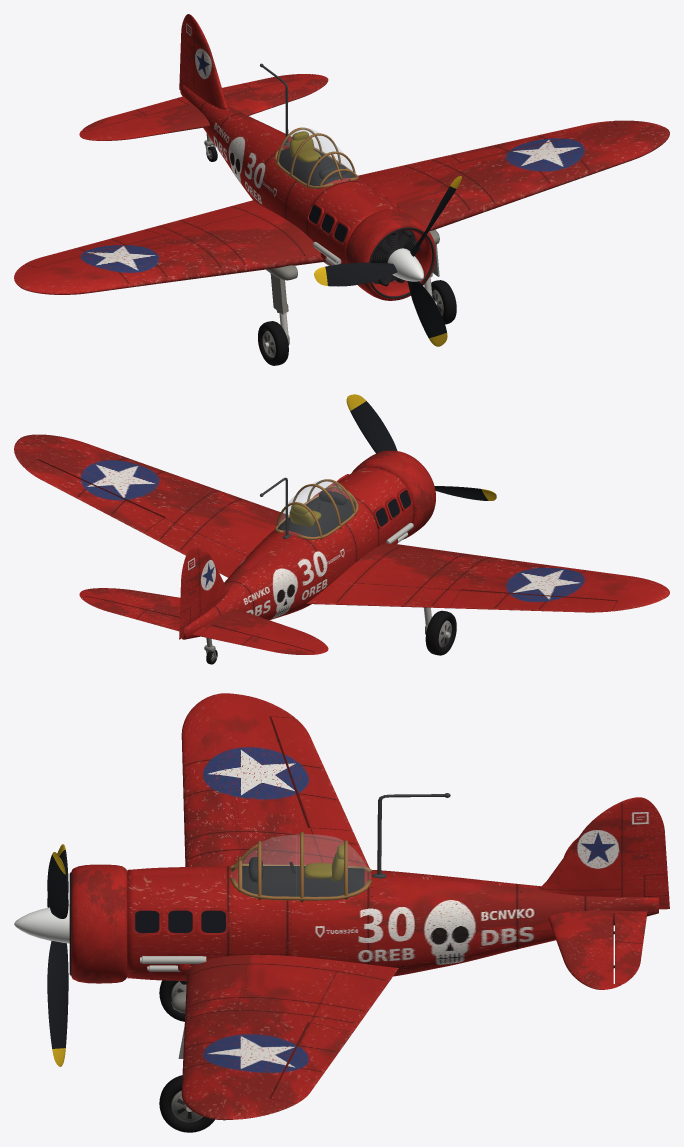
Rendered from ship_aero.glb.
3 renders of one model, top to bottom at view 1: azimuth 30°, elevation 25°; view 2: azimuth 150°, elevation 25°; view 3: azimuth 270°, elevation 25°, orthographic. The views are drawn at different scales.
Parts seen in each view (by area): view 1: Wings, Fuselage, Tailplane, Propeller, Cowling, TailFin, Canopy_Glass, Cockpit, Aileron_L, Aileron_R, Canopy_Frame, Wheel_Main_R (+6 smaller); view 2: Wings, Fuselage, Tailplane, Aileron_L, TailFin, Canopy_Glass, Aileron_R, Cowling, Propeller, Cockpit, Elevator_R, Elevator_L (+3 smaller); view 3: Wings, Fuselage, TailFin, Cowling, Canopy_Glass, Propeller, Tailplane, Aileron_R, Cockpit, Aileron_L, Nose_Windows, Canopy_Frame (+5 smaller).
Part boxes in pixels (x1,y1,x2,y2): Wings: [14, 120, 669, 294]; Fuselage: [180, 84, 399, 265]; Tailplane: [79, 74, 328, 140]; Propeller: [314, 176, 461, 346]; Cowling: [345, 209, 435, 300]; TailFin: [179, 14, 229, 110]; Canopy_Glass: [279, 128, 354, 185]; Cockpit: [279, 131, 354, 185]; Aileron_L: [450, 121, 616, 163]; Aileron_R: [25, 230, 164, 267]; Canopy_Frame: [275, 127, 358, 188]; Wheel_Main_R: [258, 321, 288, 365]; Wings: [14, 434, 669, 611]; Fuselage: [182, 467, 414, 639]; Tailplane: [79, 588, 328, 654]; Aileron_L: [25, 460, 164, 533]; TailFin: [179, 547, 229, 639]; Canopy_Glass: [277, 480, 355, 536]; Aileron_R: [451, 590, 616, 612]; Cowling: [351, 450, 435, 539]; Propeller: [346, 394, 496, 500]; Cockpit: [278, 490, 355, 536]; Elevator_R: [199, 625, 313, 654]; Elevator_L: [82, 596, 179, 630]; Wings: [181, 693, 398, 1120]; Fuselage: [127, 866, 658, 980]; TailFin: [537, 797, 669, 909]; Cowling: [69, 864, 127, 983]; Canopy_Glass: [231, 834, 370, 896]; Propeller: [14, 844, 69, 1066]; Tailplane: [548, 838, 647, 989]; Aileron_R: [271, 717, 352, 830]; Cockpit: [242, 844, 364, 896]; Aileron_L: [271, 1023, 352, 1104]; Nose_Windows: [132, 908, 228, 935]; Canopy_Frame: [229, 832, 372, 902].
Bounding box in the file's own units: 0.5475 × 0.1694 × 0.3565.
Materials: 20 (6 with a texture image).
